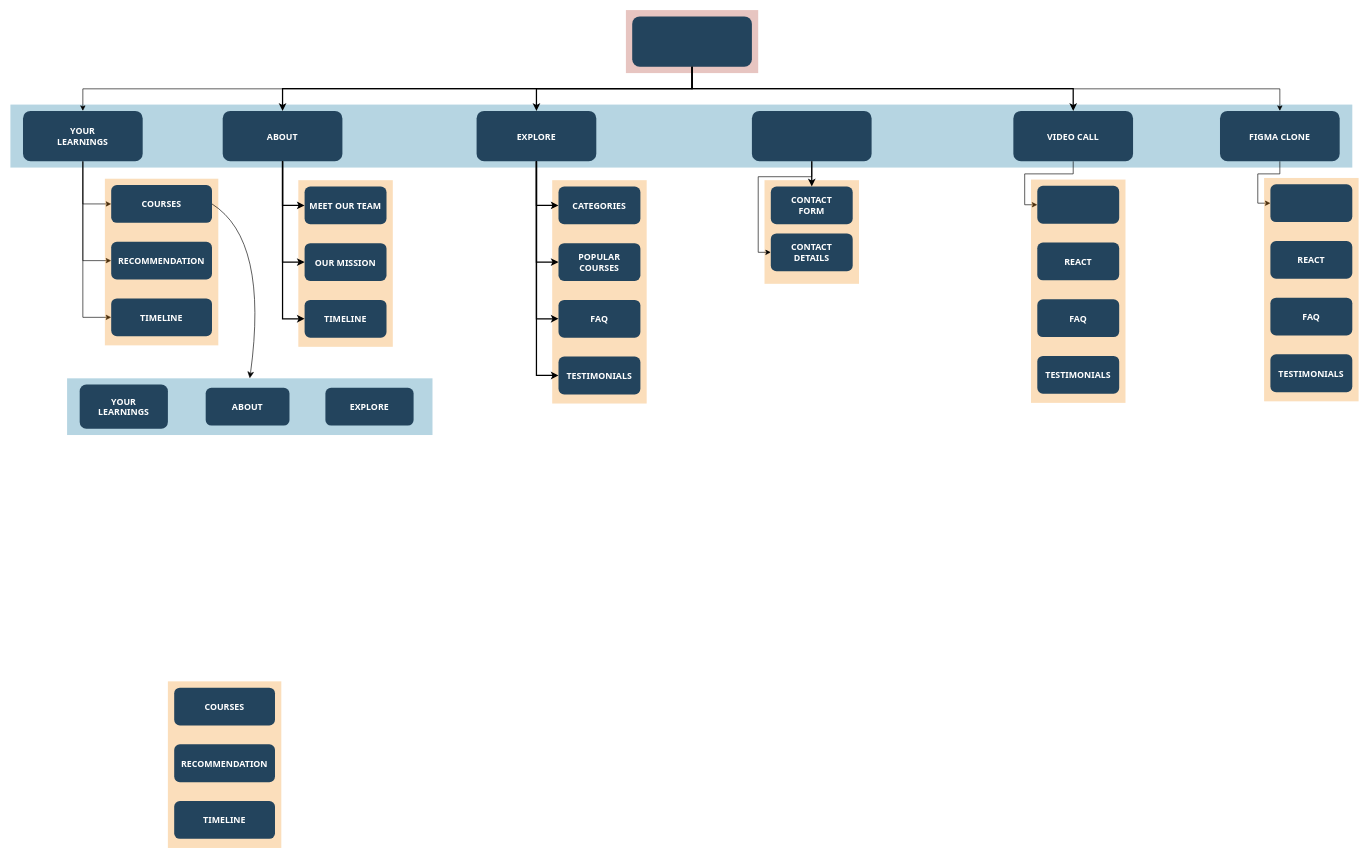
Image size: 1369x858. Some labels were removed from this diagram. Each missing label, with the centre of its shape:
"CONTACT" belongs at [811,136].
"HOME" belongs at [692,41].
"JAVASCRIPT" belongs at [1311,203].
"WebRTC" belongs at [1078,204].
